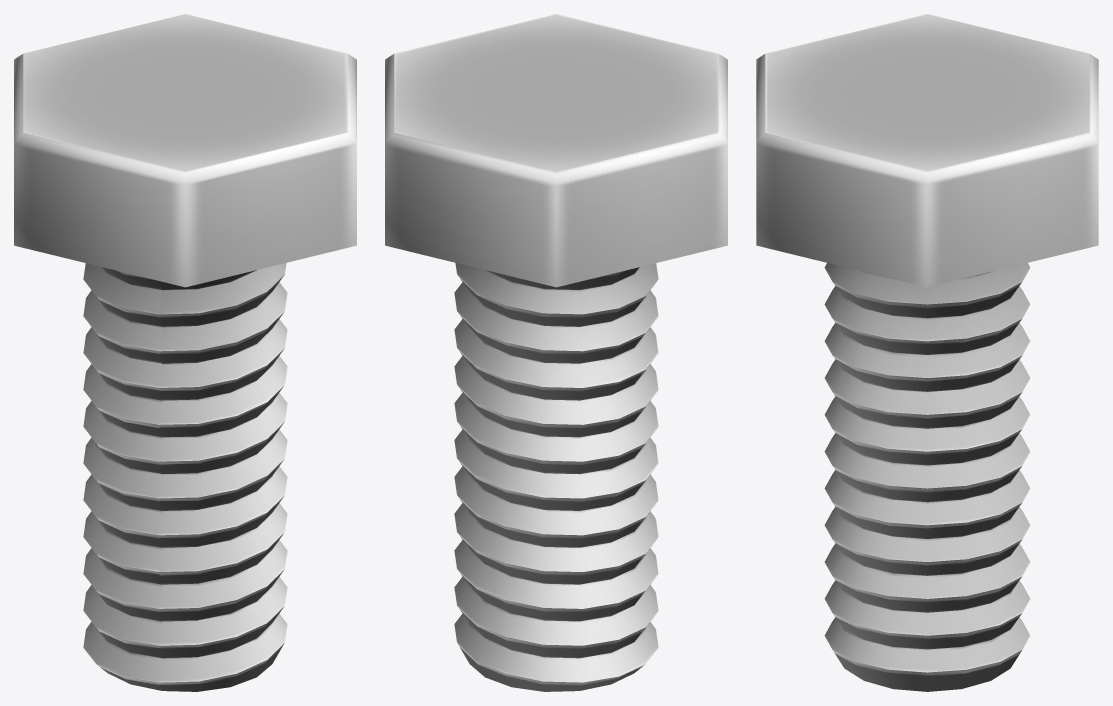
Rendered from nut.FBX.
3 renders of one model, left to right at view 1: azimuth 30°, elevation 25°; view 2: azimuth 150°, elevation 25°; view 3: azimuth 270°, elevation 25°, orthographic.
Parts seen in each view (by area): view 1: nut; view 2: nut; view 3: nut.
Part boxes in pixels (x1,y1,x2,y2): nut: (14,14,356,691); nut: (385,14,727,691); nut: (756,14,1098,691).
Size of the model in its own units: 20 by 31.29 by 17.32.
